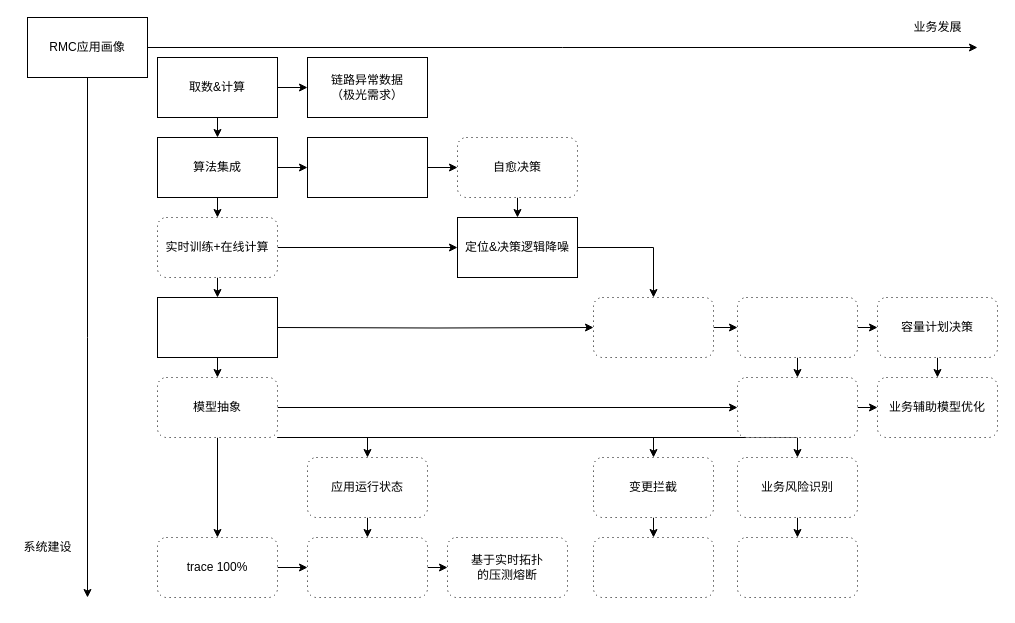
Some shapes in this 1015 by 623 pixel diagram are drawn without their labels. The shapes that lost their labels are listed below. From the top down, each one's centre as x and y in pixels, then its label:
At pixel 367 167: "容量风险识别".
At pixel 217 327: "元数据拓扑 资金核对 单笔全风险".
At pixel 653 327: "链路定位".
At pixel 797 327: "复合容量自愈决策".
At pixel 797 407: "数据&结论透出".
At pixel 367 567: "基于实时拓扑的 应用运行状态".
At pixel 653 567: "基于实时拓扑的 变更拦截".
At pixel 797 567: "基于实时拓扑的 风险识别".
